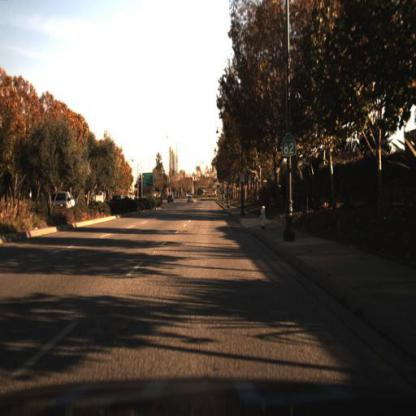car: (46, 189, 77, 214), (186, 192, 198, 210), (166, 192, 176, 208)
